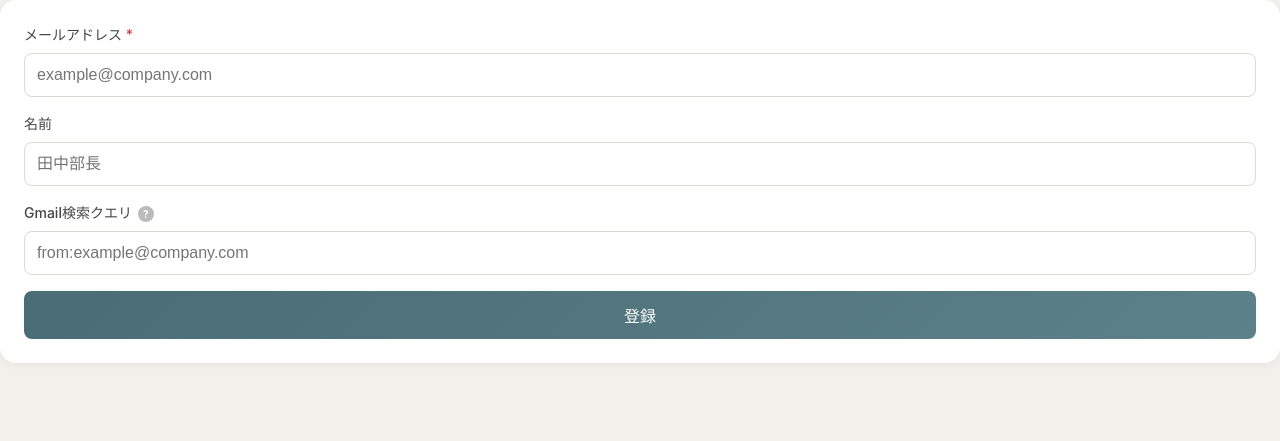
ContactForm › エラーハンドリング › should display error message on duplicate contact (409)
The image size is (1280, 441).
Type "test@example.com" into the field labelled "メールアドレス *". click: (640, 75)
box: [24,53,1256,97]
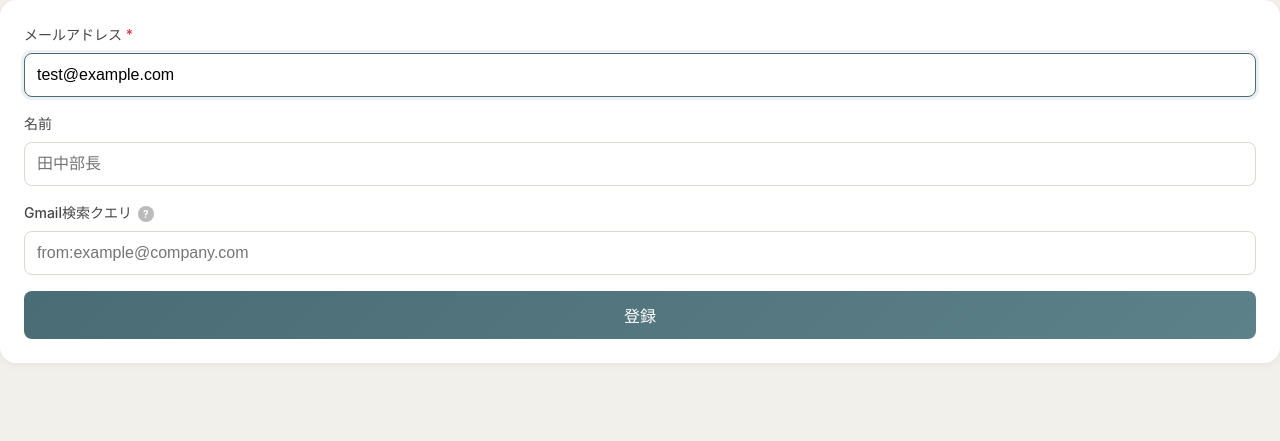
Click the button "登録". click: (640, 315)
box: [24,291,1256,339]
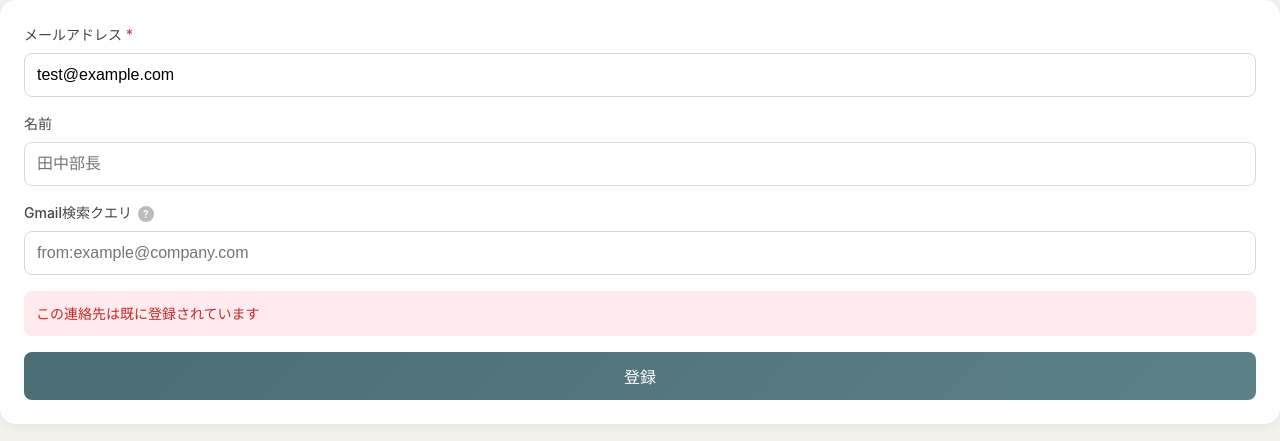
Expected: the text "この連絡先は既に登録されています" is shown, [24,291,1256,336]
